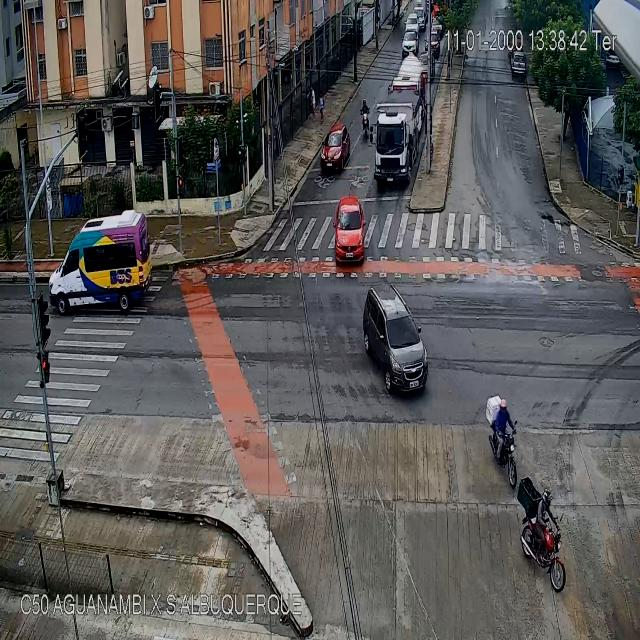Car: (47, 210, 152, 313), (365, 283, 428, 395), (333, 200, 366, 266), (321, 126, 349, 172), (424, 30, 440, 56), (401, 31, 418, 53), (511, 53, 526, 76), (431, 15, 444, 35), (406, 14, 418, 32)
Motorcycle: (520, 484, 566, 592), (488, 398, 518, 487), (360, 98, 369, 138)
Truck: (369, 91, 427, 187), (389, 57, 428, 114)
